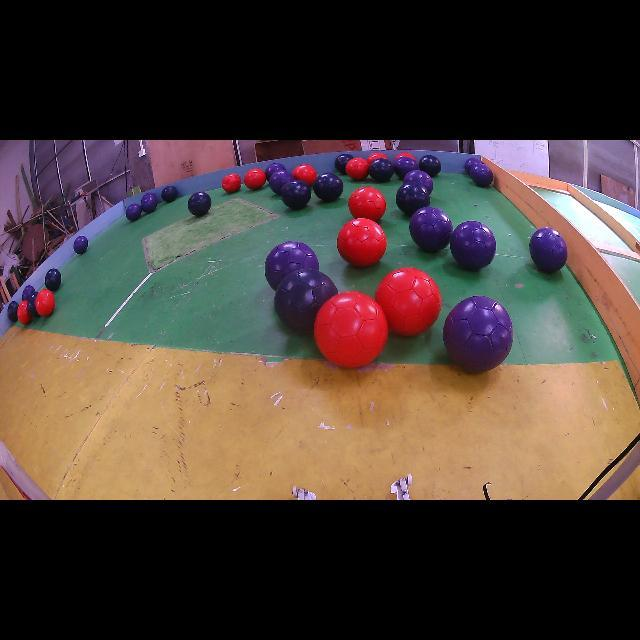B: (274, 269, 338, 332), (396, 182, 430, 216), (312, 172, 344, 201), (281, 180, 311, 209), (369, 159, 394, 182), (188, 191, 211, 216), (419, 155, 441, 178), (335, 154, 354, 174), (45, 269, 61, 291), (28, 292, 40, 318), (161, 185, 178, 202), (8, 301, 19, 321)
P: (442, 295, 514, 372), (265, 241, 319, 290), (450, 221, 496, 270), (410, 206, 452, 252), (529, 228, 568, 274), (402, 170, 434, 194), (269, 170, 295, 195), (394, 156, 418, 180), (470, 164, 494, 188), (265, 162, 286, 181), (464, 158, 482, 175), (125, 204, 142, 221), (141, 196, 157, 214), (74, 236, 89, 254), (21, 285, 36, 301), (143, 193, 156, 199)
R: (314, 291, 388, 368), (375, 268, 441, 336), (336, 218, 386, 266), (349, 186, 386, 221), (35, 289, 55, 316), (346, 158, 369, 180), (292, 164, 316, 185), (244, 169, 266, 190), (221, 174, 241, 192), (18, 300, 31, 325), (368, 151, 388, 164), (395, 152, 415, 160)
